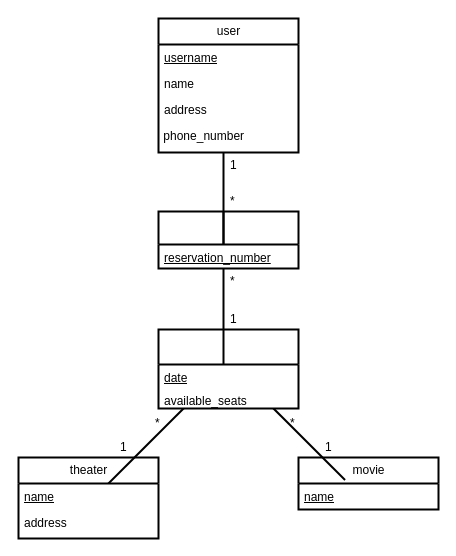
Image size: 456x556. Some labels were removed from this diagram. The shapes that lost their labels are listed below. From the top down, each one's box as (x1, y1, x2, y2) in pixels, then its label:
(157, 210, 299, 269): <<weak>> reservation
(157, 328, 299, 409): <<weak>> performance
